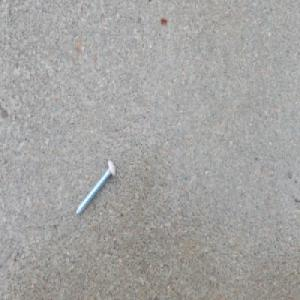Nail: (75, 158, 117, 218)
